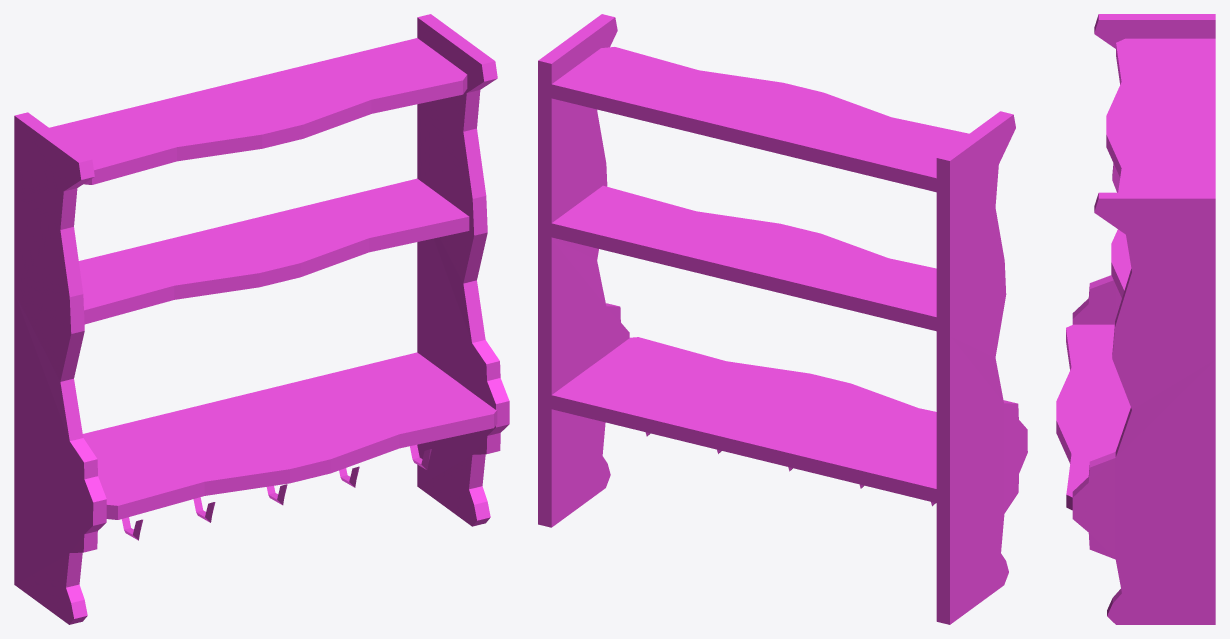
File: SM_Shelf_Wall_Decor_A_Fantasy.fbx
The picture shows the model from 3 angles, left to right: view 1: azimuth 30°, elevation 25°; view 2: azimuth 150°, elevation 25°; view 3: azimuth 270°, elevation 25°; orthographic projection. The views are drawn at different scales.
Parts seen in each view (by area): view 1: SM_Shelf_Wall_Decor_A_Fantasy; view 2: SM_Shelf_Wall_Decor_A_Fantasy; view 3: SM_Shelf_Wall_Decor_A_Fantasy.
Part boxes in pixels (bbox=[...]): SM_Shelf_Wall_Decor_A_Fantasy: bbox=[14, 14, 509, 624]; SM_Shelf_Wall_Decor_A_Fantasy: bbox=[538, 14, 1027, 624]; SM_Shelf_Wall_Decor_A_Fantasy: bbox=[1056, 14, 1215, 624].
Bounding box in the file's own units: 0.8288 × 0.892 × 0.3027.
